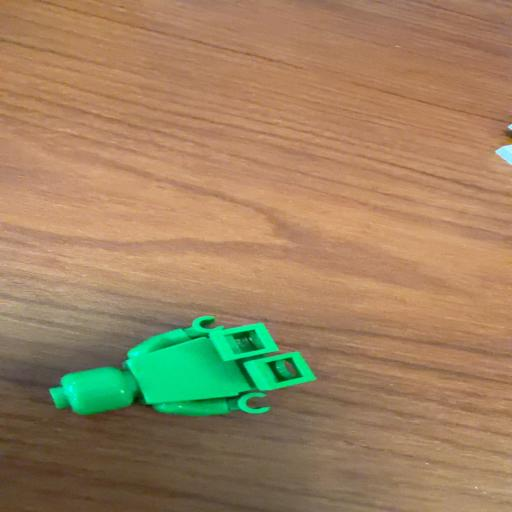UnoQ-minifig-detector: (49, 316, 315, 416)
